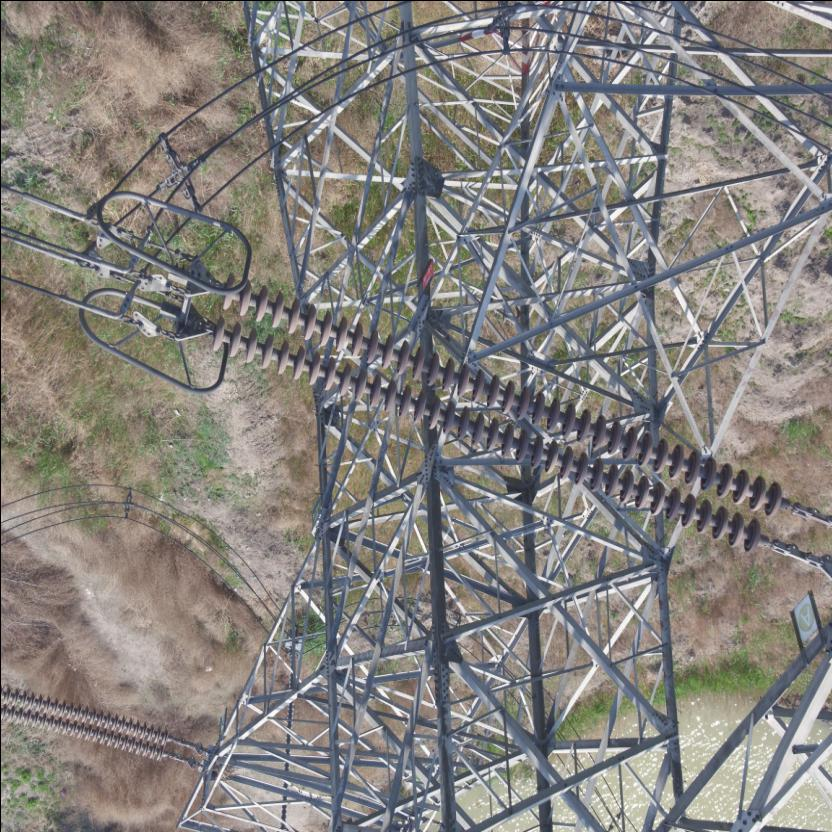insulator: (199, 272, 821, 562), (0, 682, 182, 766)
